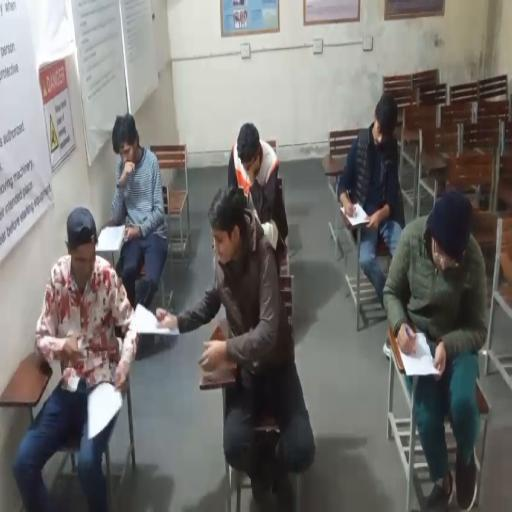paper: (60, 368, 124, 439), (400, 331, 441, 376), (130, 302, 178, 336), (341, 202, 370, 226), (99, 227, 121, 253)
